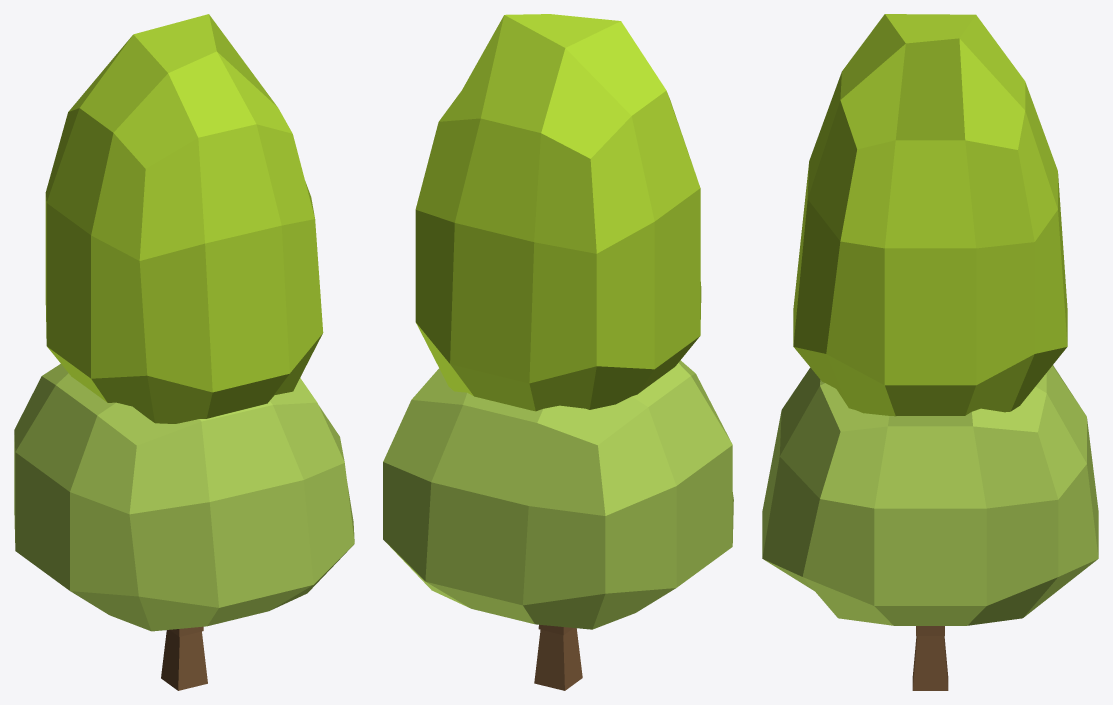
Rendered from BallTree.fbx.
3 renders of one model, left to right at view 1: azimuth 30°, elevation 25°; view 2: azimuth 150°, elevation 25°; view 3: azimuth 270°, elevation 25°, orthographic. The views are drawn at different scales.
Parts seen in each view (by area): view 1: BallTree_02, BallTree_01; view 2: BallTree_02, BallTree_01; view 3: BallTree_02, BallTree_01.
Boxes of the visible parts, bbox=[...] form: BallTree_02: bbox=[45, 14, 323, 636]; BallTree_01: bbox=[14, 364, 354, 690]; BallTree_02: bbox=[415, 14, 701, 635]; BallTree_01: bbox=[383, 360, 733, 690]; BallTree_02: bbox=[793, 14, 1067, 635]; BallTree_01: bbox=[762, 365, 1098, 690].
Size of the model in its own units: 251 by 547 by 251.
